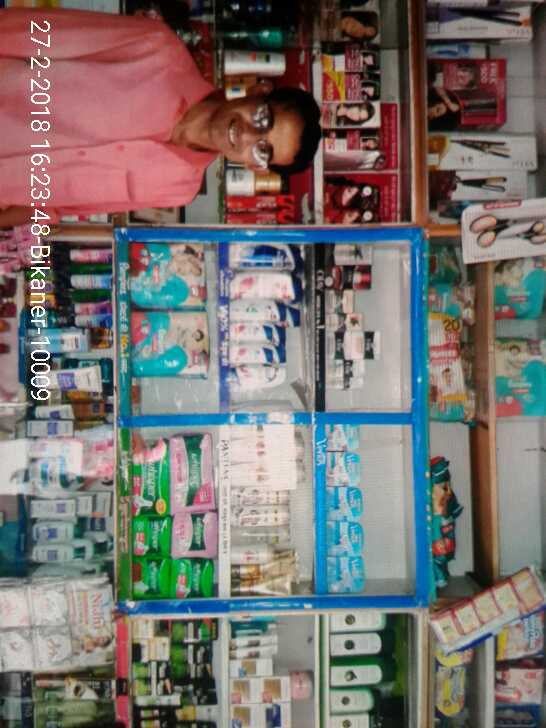venus: (328, 555, 366, 591), (327, 486, 364, 519), (328, 523, 365, 555), (327, 452, 361, 486), (327, 424, 361, 452)
